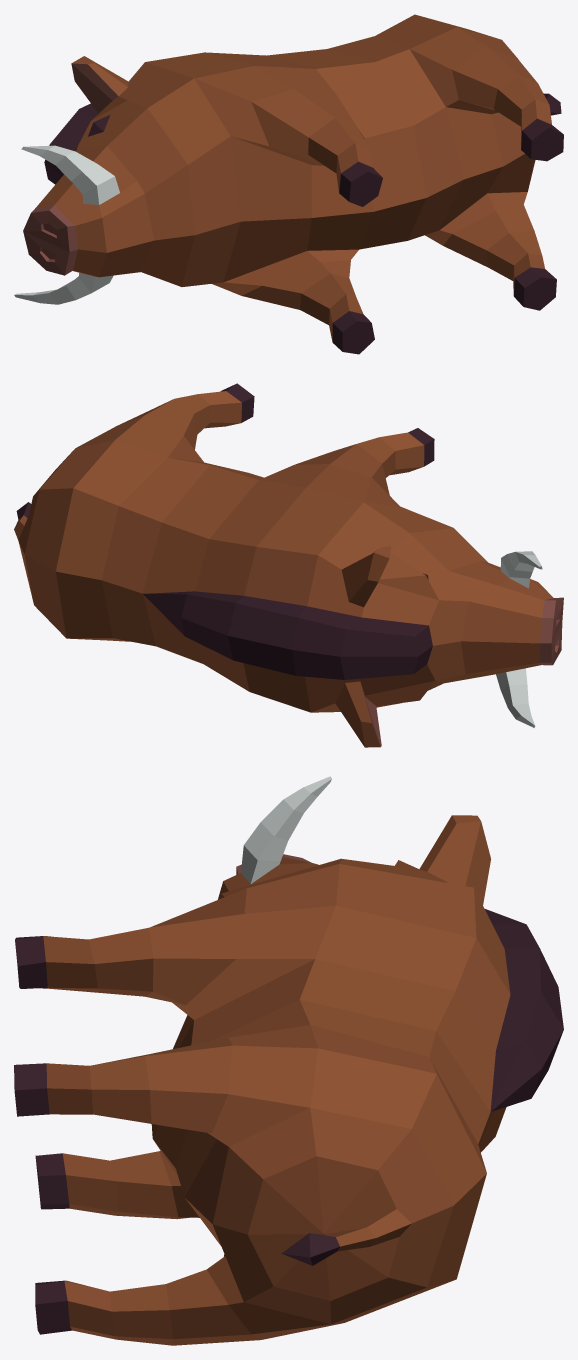
File: boar.fbx
3 renders of one model, top to bottom at view 1: azimuth 30°, elevation 25°; view 2: azimuth 150°, elevation 25°; view 3: azimuth 270°, elevation 25°, orthographic. The views are drawn at different scales.
Parts seen in each view (by area): view 1: Boar; view 2: Boar; view 3: Boar.
Boxes of the visible parts, bbox=[...] form: Boar: bbox=[14, 14, 563, 354]; Boar: bbox=[14, 383, 563, 747]; Boar: bbox=[14, 776, 563, 1345].
Bounding box in the file's own units: 141 × 54.38 × 88.46.
